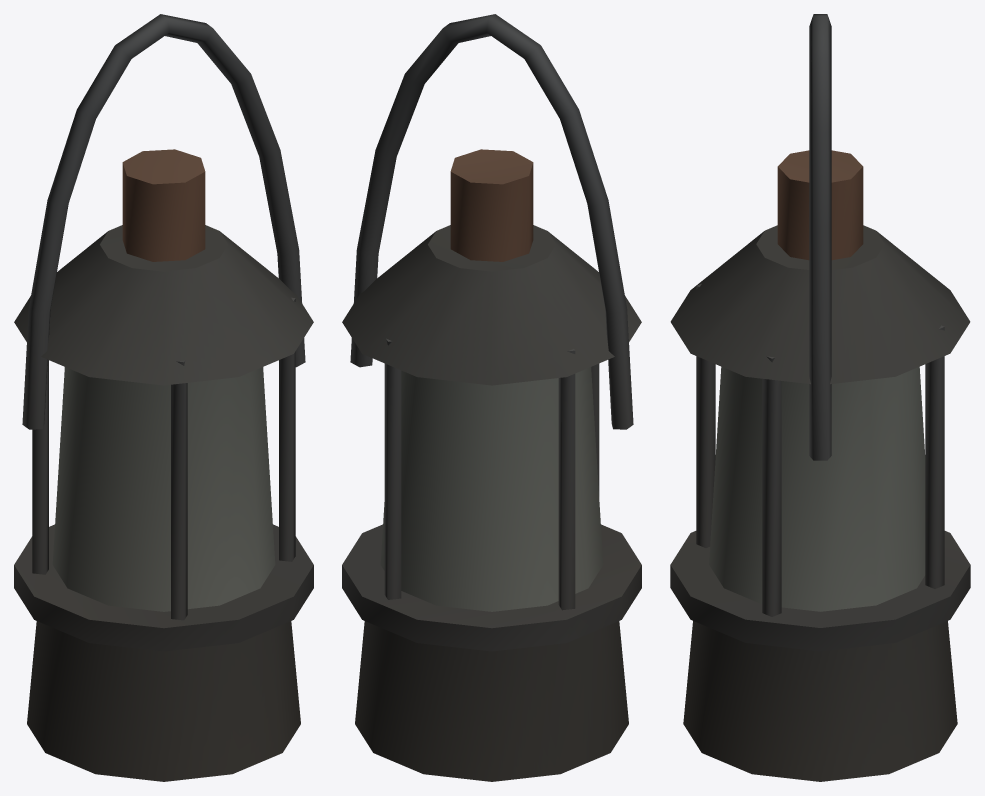
File: m01_prop_railway_lantern_lod0.glb
3 renders of one model, left to right at view 1: azimuth 30°, elevation 25°; view 2: azimuth 150°, elevation 25°; view 3: azimuth 270°, elevation 25°, orthographic.
Visible parts, largest first — view 1: railway_lantern; view 2: railway_lantern; view 3: railway_lantern.
Part boxes in pixels (left/top/right/bottom): railway_lantern: left=14, top=14, right=313, bottom=781; railway_lantern: left=342, top=14, right=641, bottom=781; railway_lantern: left=670, top=14, right=970, bottom=781.
Size of the model in its own units: 0.1489 by 0.3644 by 0.14.
